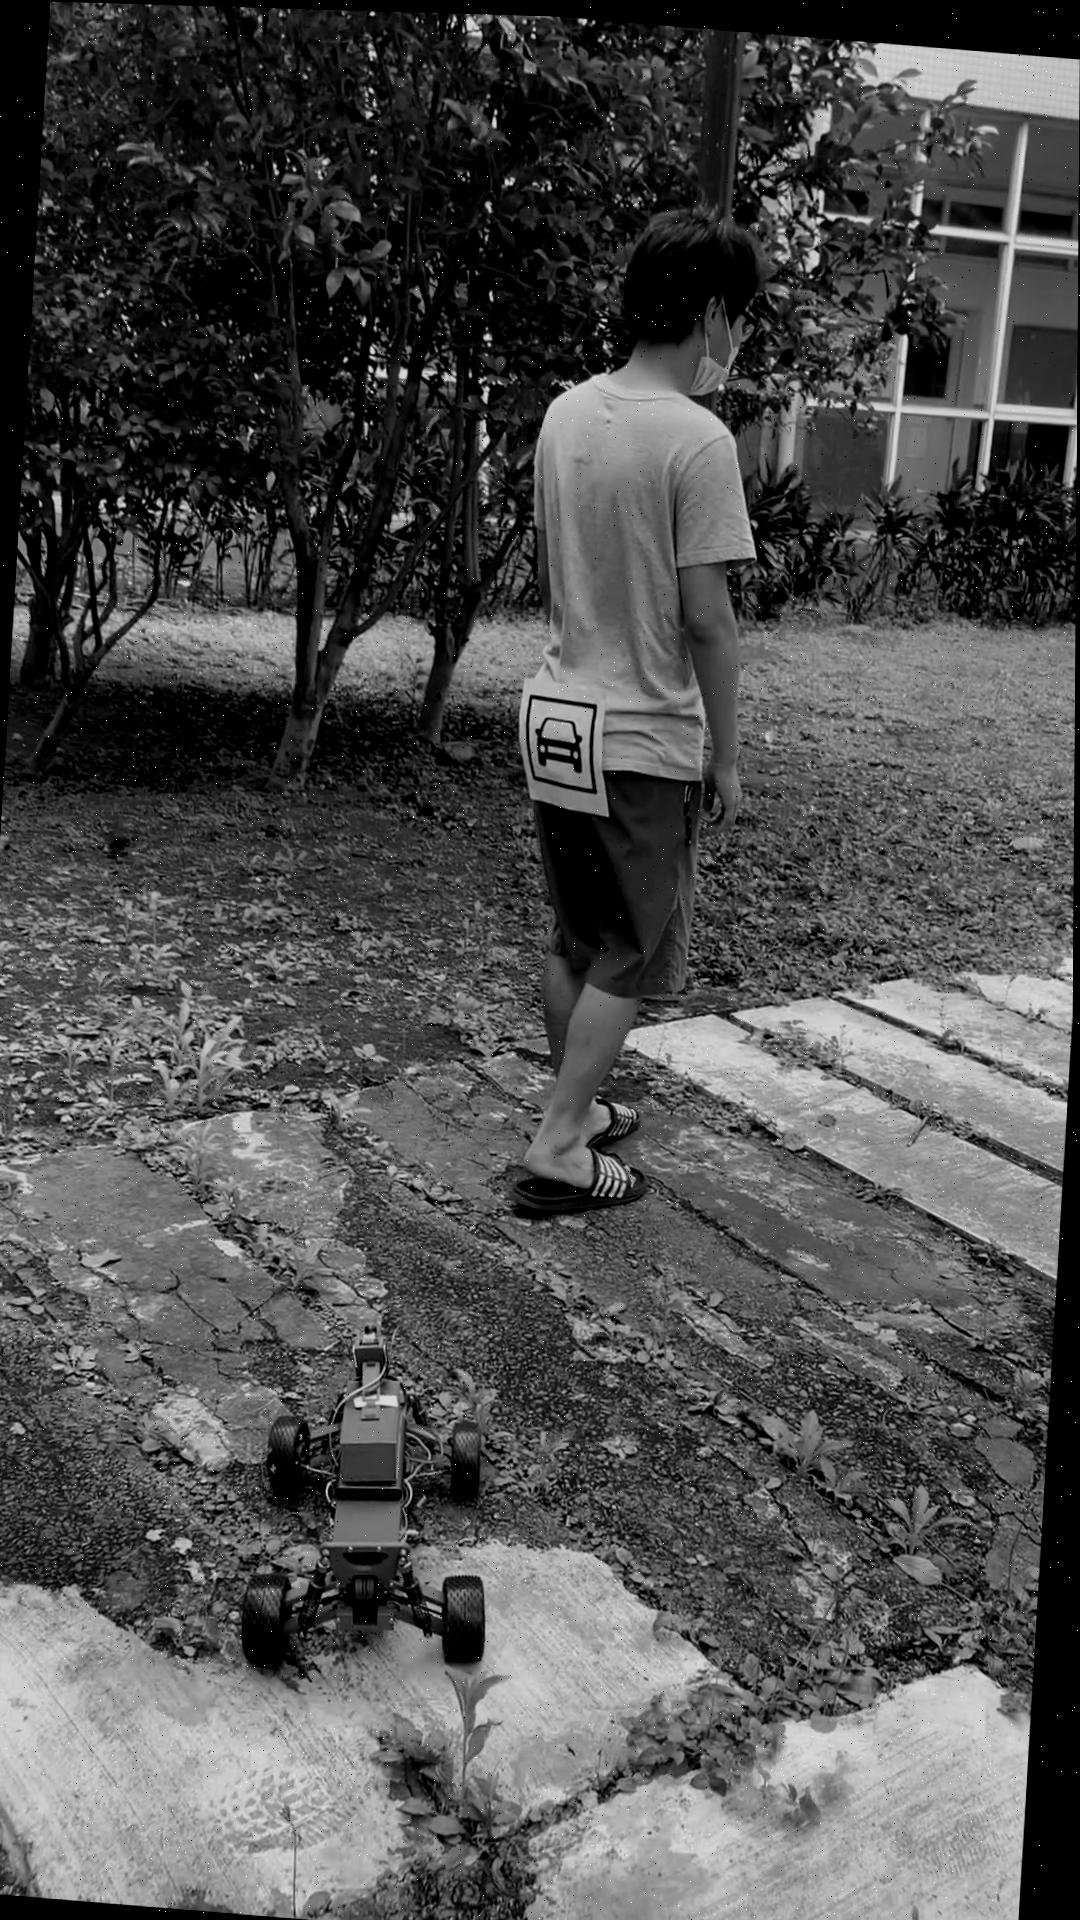car_img: (521, 687, 607, 791)
